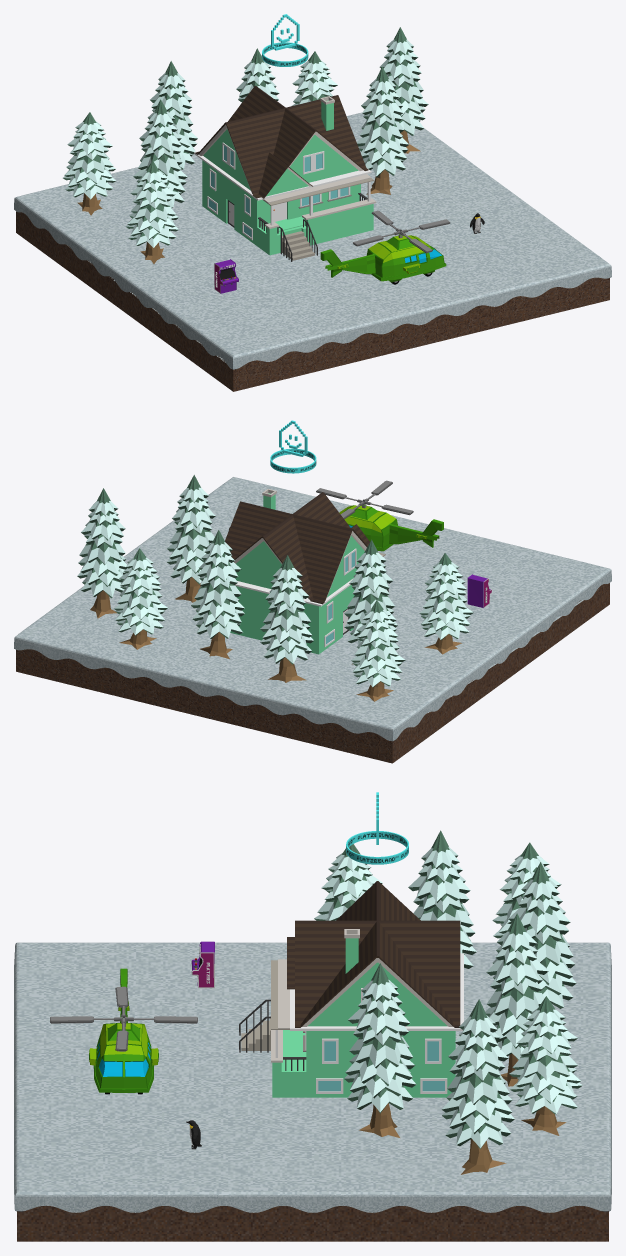
3 renders of one model, top to bottom at view 1: azimuth 30°, elevation 25°; view 2: azimuth 150°, elevation 25°; view 3: azimuth 270°, elevation 25°, orthographic. The views are drawn at different scales.
Visible parts, largest first — view 1: Cube.003, Cube.352, VEHICLES_HELICOPTER, TYPE_PREMIUM, OBJRANDOM_ARCADE; view 2: Cube.003, Cube.352, VEHICLES_HELICOPTER, TYPE_PREMIUM, OBJRANDOM_ARCADE; view 3: Cube.003, Cube.352, VEHICLES_HELICOPTER, TYPE_PREMIUM, OBJRANDOM_ARCADE.
Part boxes in pixels (x1,y1,x2,y2): Cube.003: [14, 27, 611, 391]; Cube.352: [194, 85, 376, 261]; VEHICLES_HELICOPTER: [320, 210, 450, 284]; TYPE_PREMIUM: [262, 14, 308, 66]; OBJRANDOM_ARCADE: [214, 259, 238, 293]; Cube.003: [14, 475, 611, 763]; Cube.352: [225, 489, 388, 654]; VEHICLES_HELICOPTER: [316, 480, 443, 551]; TYPE_PREMIUM: [270, 420, 316, 473]; OBJRANDOM_ARCADE: [467, 574, 491, 607]; Cube.003: [14, 830, 611, 1241]; Cube.352: [239, 881, 463, 1097]; VEHICLES_HELICOPTER: [50, 968, 197, 1094]; TYPE_PREMIUM: [346, 792, 408, 864]; OBJRANDOM_ARCADE: [191, 941, 214, 988].
Size of the model in its own units: 4040 by 2568 by 4040.
Materials: 40 (4 with a texture image).
